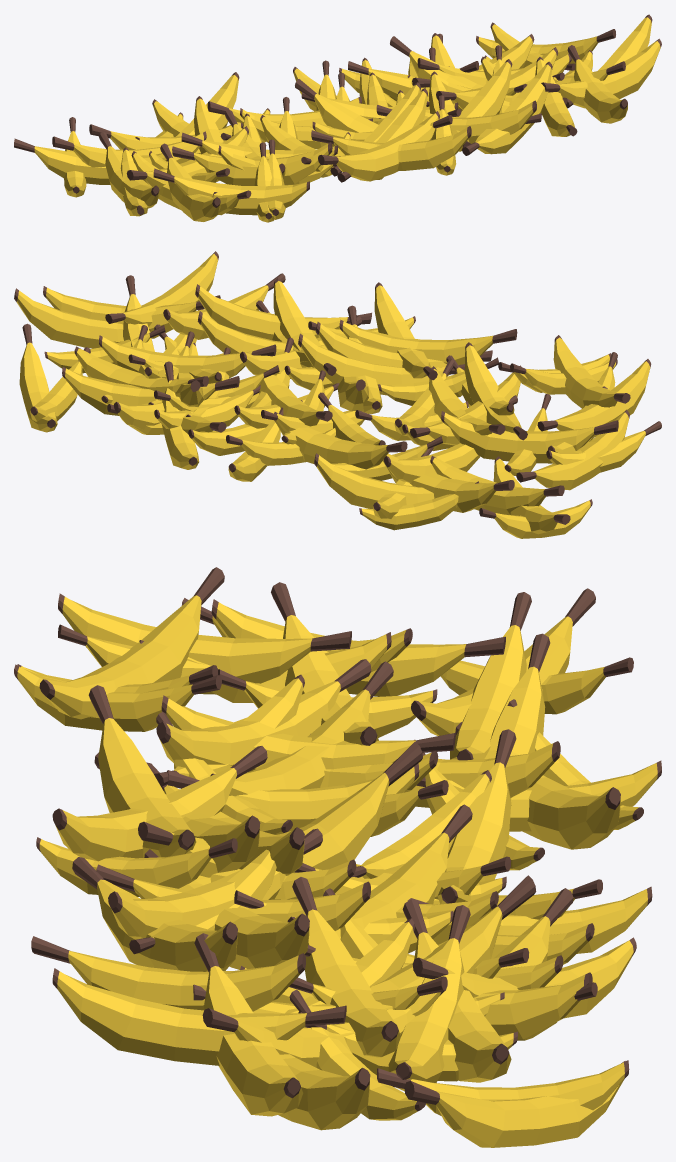
Rendered from banana2.fbx.
3 renders of one model, top to bottom at view 1: azimuth 30°, elevation 25°; view 2: azimuth 150°, elevation 25°; view 3: azimuth 270°, elevation 25°, orthographic. The views are drawn at different scales.
Visible parts, largest first — view 1: banana.001; view 2: banana.001; view 3: banana.001.
Part boxes in pixels (x1=…): banana.001: x1=14, y1=14, x2=661, y2=222; banana.001: x1=14, y1=251, x2=661, y2=538; banana.001: x1=14, y1=567, x2=661, y2=1147.
Size of the model in its own units: 987 by 145 by 505.
